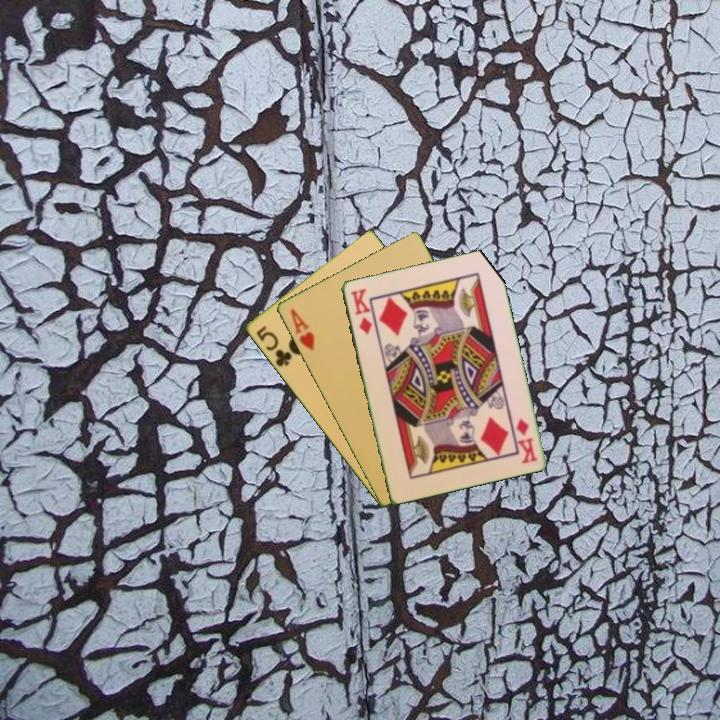5c: (252, 322, 295, 370)
Ah: (286, 305, 317, 354)
Kd: (347, 285, 375, 337), (512, 415, 540, 466)
